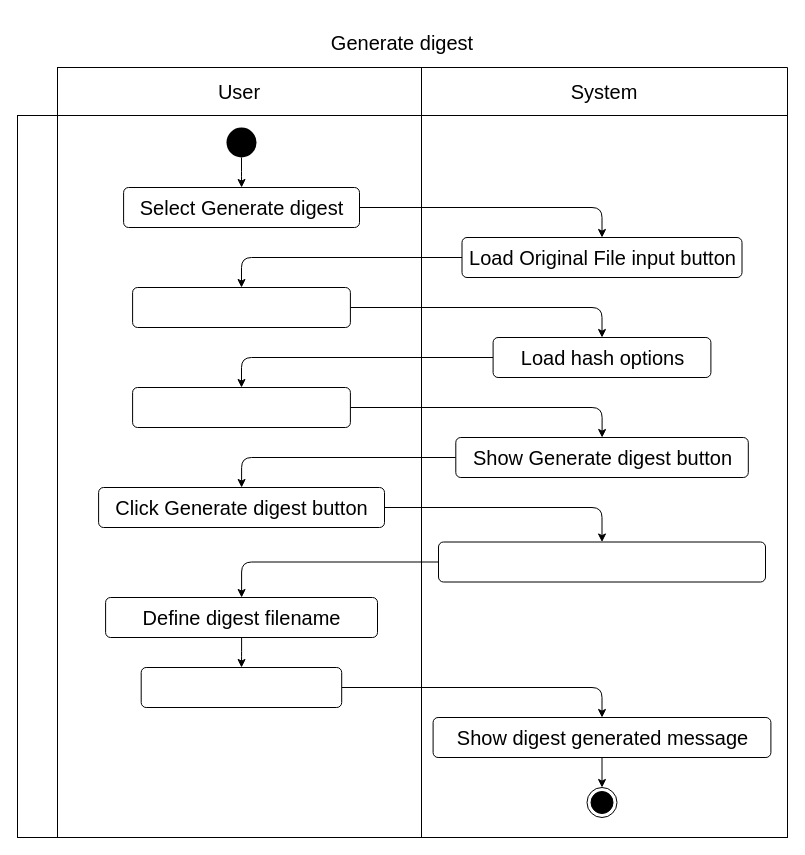
Some shapes in this 805 by 855 pixel diagram are drawn without their labels. Each missing label, with the centre of its shape:
Save digest file: the point at 241,687
Select hash option: the point at 241,407
Select original file: the point at 241,307
Show menu to save digest: the point at 602,561
